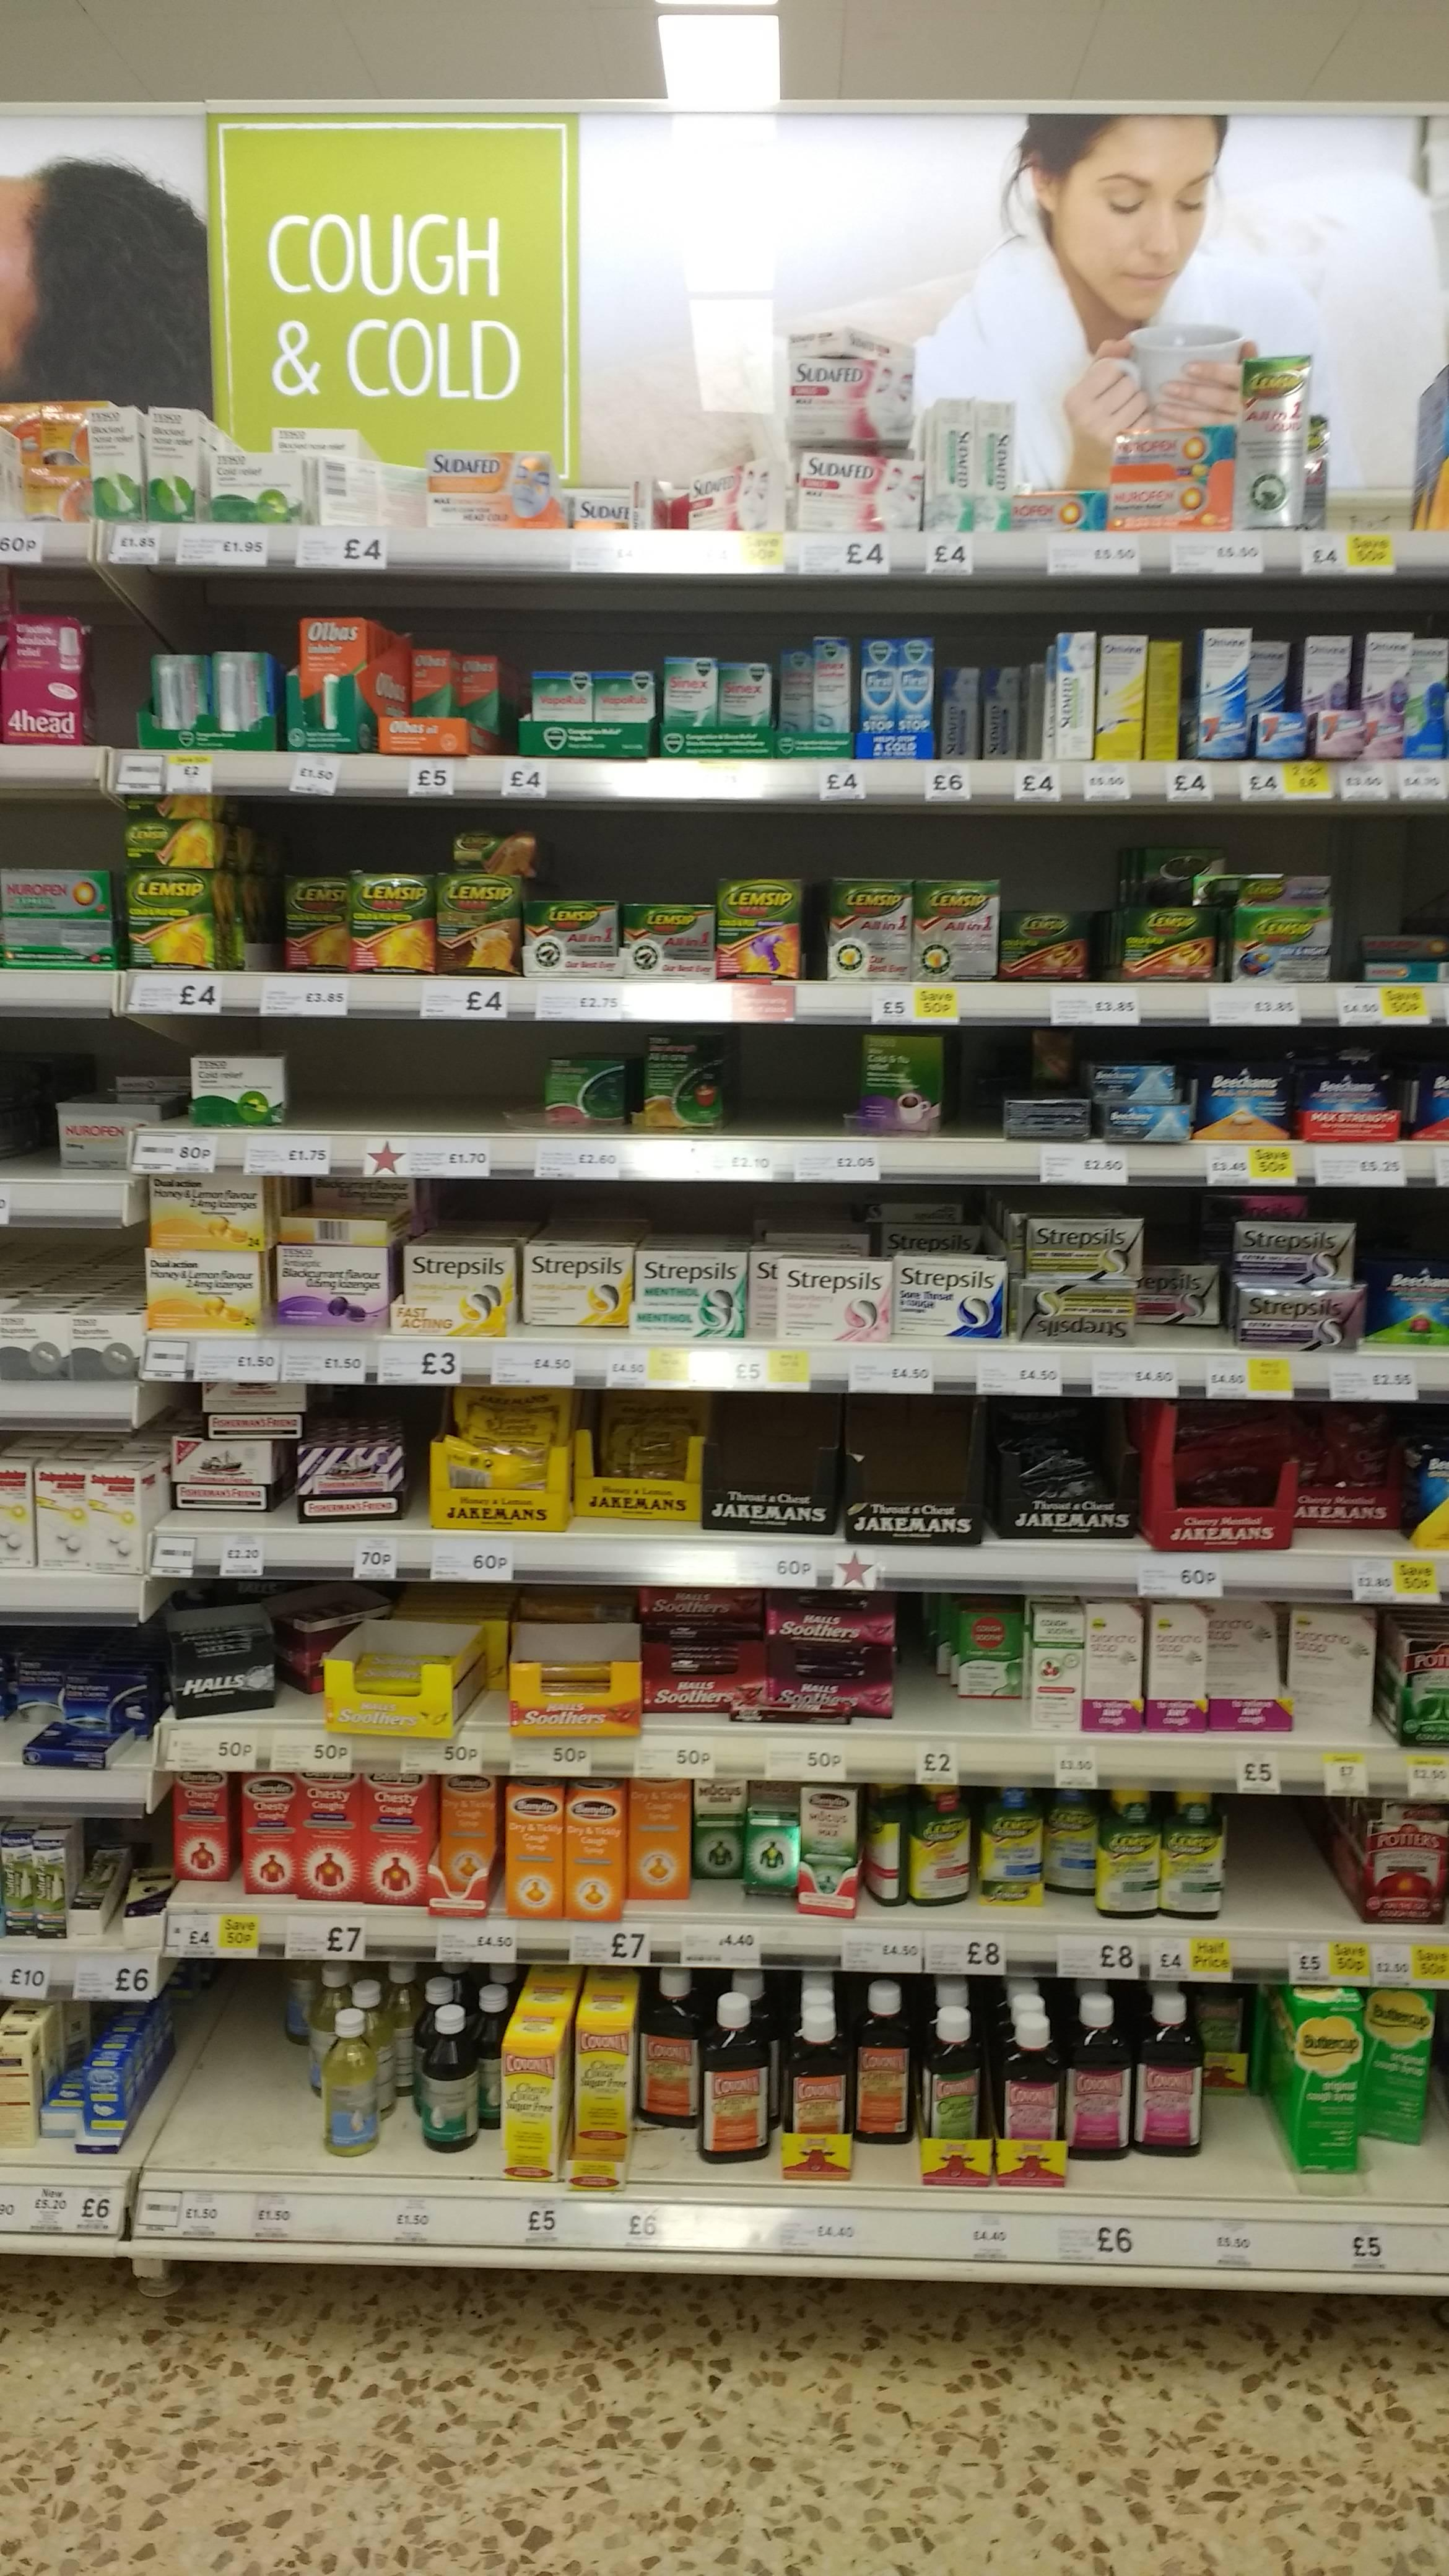empty: (149, 1980, 246, 2171), (1230, 1798, 1348, 1928), (1361, 2049, 1449, 2201), (251, 2008, 327, 2174), (1201, 2038, 1277, 2204), (936, 648, 1040, 766), (386, 1047, 517, 1131), (860, 1392, 957, 1500), (720, 1391, 816, 1499), (747, 1046, 844, 1136), (895, 1599, 957, 1734), (295, 1046, 386, 1131), (948, 1037, 1014, 1136)
